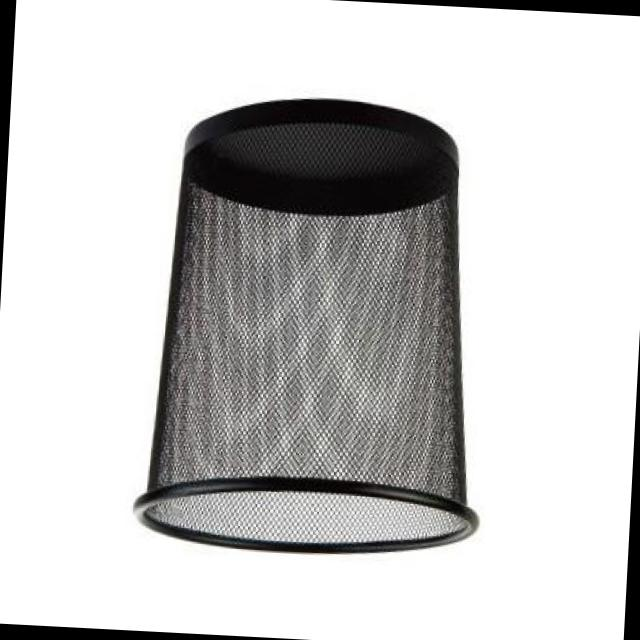dustbin: (126, 85, 503, 569)
